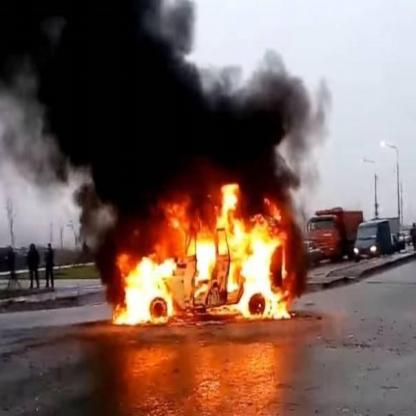fire: (112, 164, 296, 334)
smoke: (11, 1, 291, 195)
